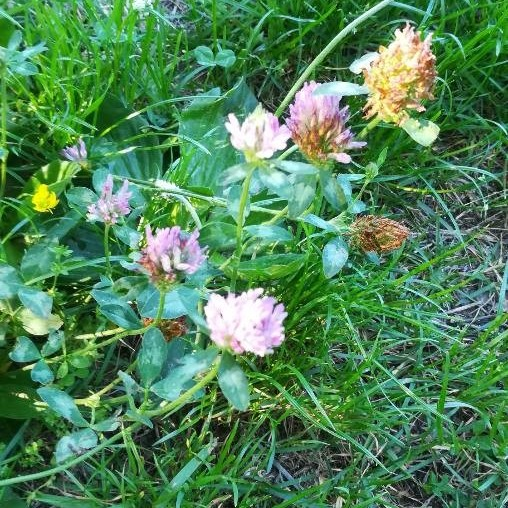obstacle: (38, 69, 400, 433)
